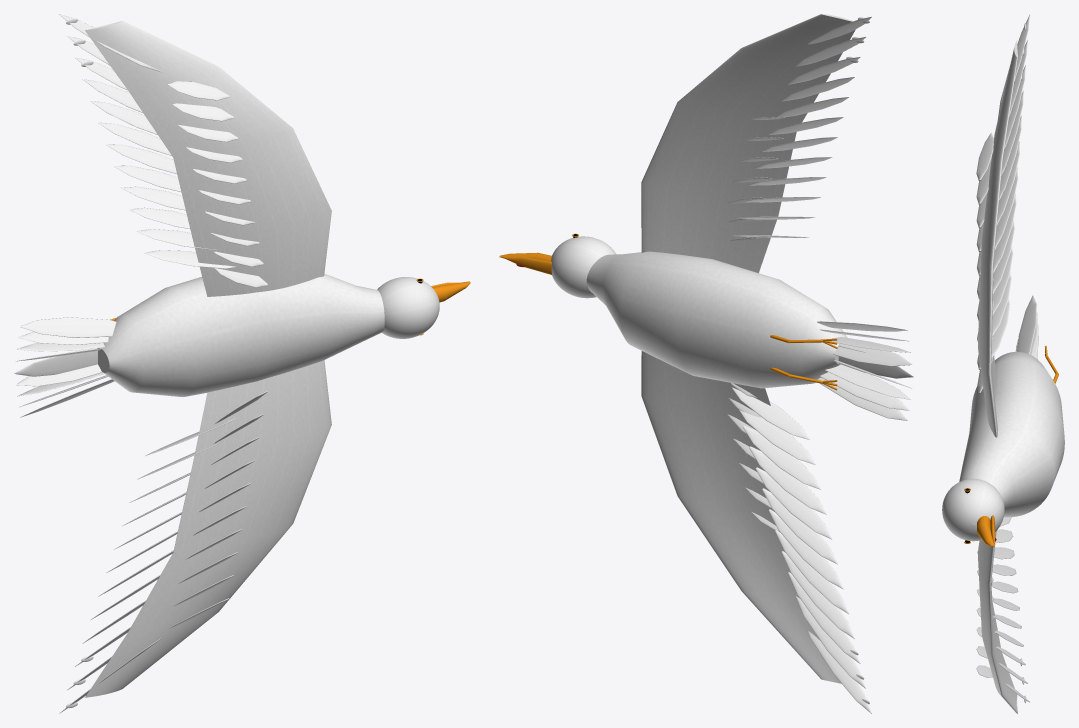
The model's file is seagull.obj.
3 renders of one model, left to right at view 1: azimuth 30°, elevation 25°; view 2: azimuth 150°, elevation 25°; view 3: azimuth 270°, elevation 25°, orthographic.
Visible parts, largest first — view 1: BirdGrey, BirdWhite, BirdBlack; view 2: BirdWhite, BirdGrey, BirdBlack, BirdBill; view 3: BirdWhite, BirdGrey, BirdBlack, BirdBill.
Part boxes in pixels (x1=…): BirdGrey: x1=82, y1=67, x2=331, y2=643; BirdWhite: x1=14, y1=18, x2=439, y2=708; BirdBlack: x1=59, y1=14, x2=218, y2=713; BirdWhite: x1=551, y1=14, x2=913, y2=703; BirdGrey: x1=727, y1=77, x2=854, y2=638; BirdBlack: x1=788, y1=16, x2=871, y2=713; BirdBill: x1=499, y1=233, x2=837, y2=390; BirdWhite: x1=942, y1=23, x2=1064, y2=713; BirdGrey: x1=976, y1=90, x2=1023, y2=695; BirdBlack: x1=994, y1=14, x2=1030, y2=713; BirdBill: x1=964, y1=345, x2=1058, y2=546.
Bounding box in the file's own units: 0.853 × 1.31 × 0.212.
6 materials, 3 textured.
